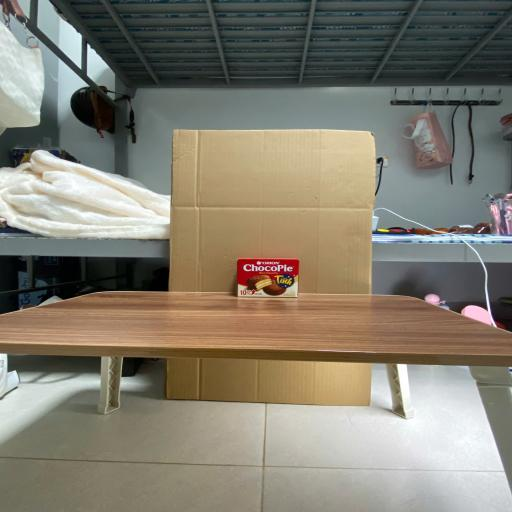chocopie: (236, 258, 300, 299)
